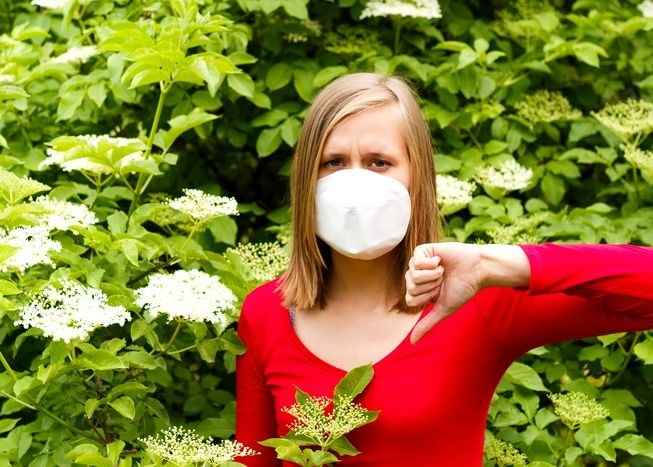face_with_mask: (294, 72, 435, 266)
